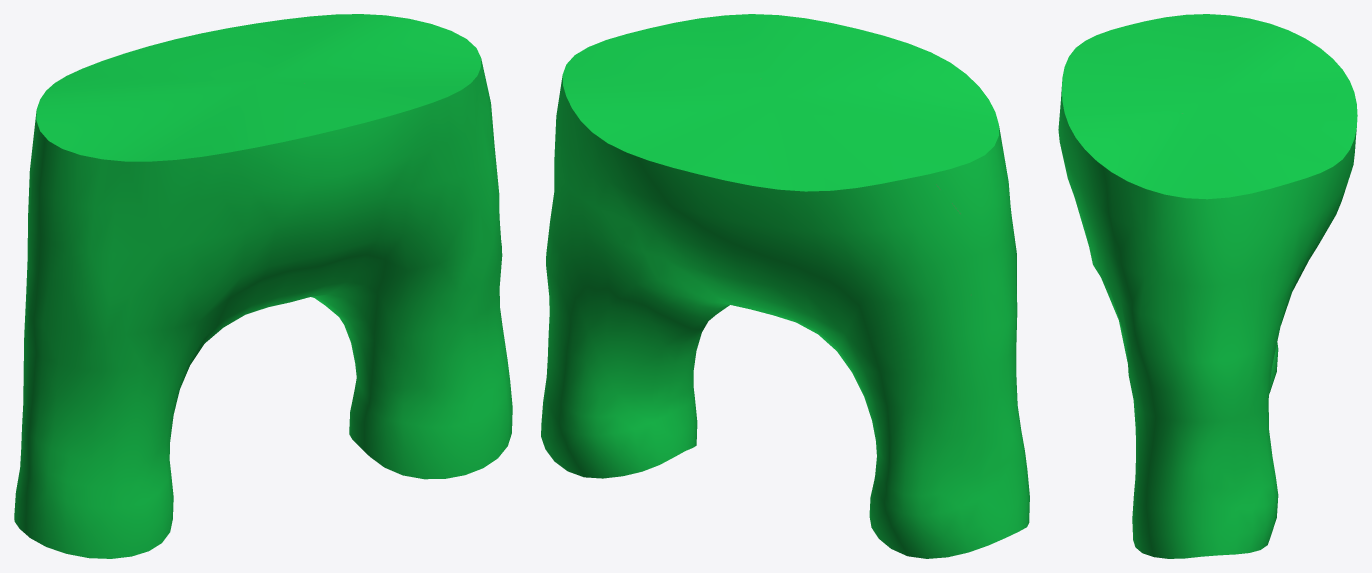
Rendered from 5Jack SepticEye.fbx.
The picture shows the model from 3 angles, left to right: view 1: azimuth 30°, elevation 25°; view 2: azimuth 150°, elevation 25°; view 3: azimuth 270°, elevation 25°; orthographic projection. The views are drawn at different scales.
Visible parts, largest first — view 1: 5Jack SepticEye; view 2: 5Jack SepticEye; view 3: 5Jack SepticEye.
Part boxes in pixels (left/top/right/bottom): 5Jack SepticEye: left=14, top=14, right=512, bottom=558; 5Jack SepticEye: left=541, top=14, right=1029, bottom=558; 5Jack SepticEye: left=1058, top=14, right=1357, bottom=558.
Bounding box in the file's own units: 0.6404 × 0.5276 × 0.3793.
